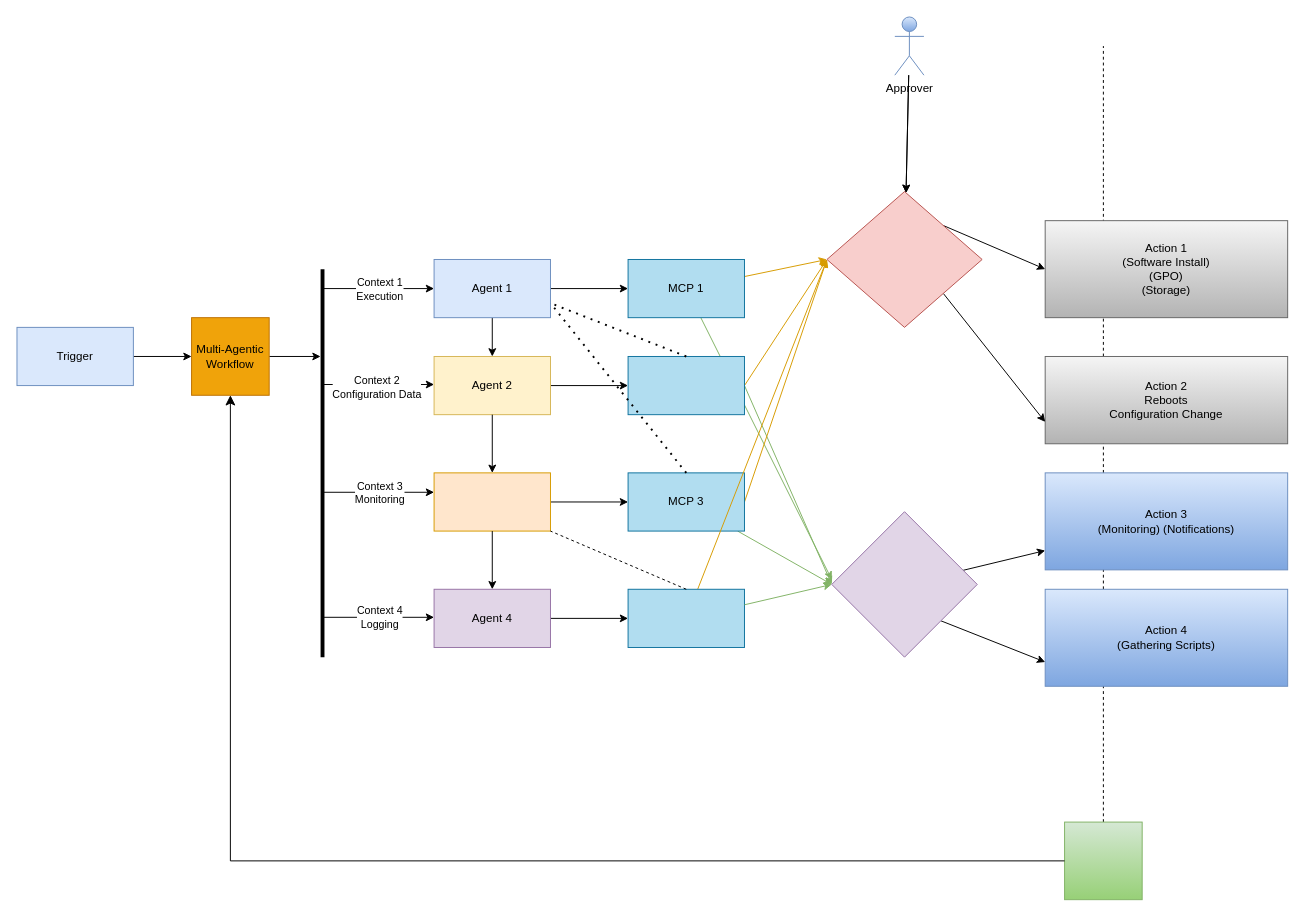
Some shapes in this 1305 by 917 pixel diagram are drawn without their labels. The shapes that lost their labels are listed below. From the top down, each one's centre as x and y in pixels, then its label:
pixel 904 259: Invasive Actions (Require Priviledge)
pixel 685 385: MCP 2
pixel 491 501: Agent 3
pixel 904 584: Non Invasive Actions
pixel 685 617: MCP 4
pixel 1103 860: Feedback Mechanism
